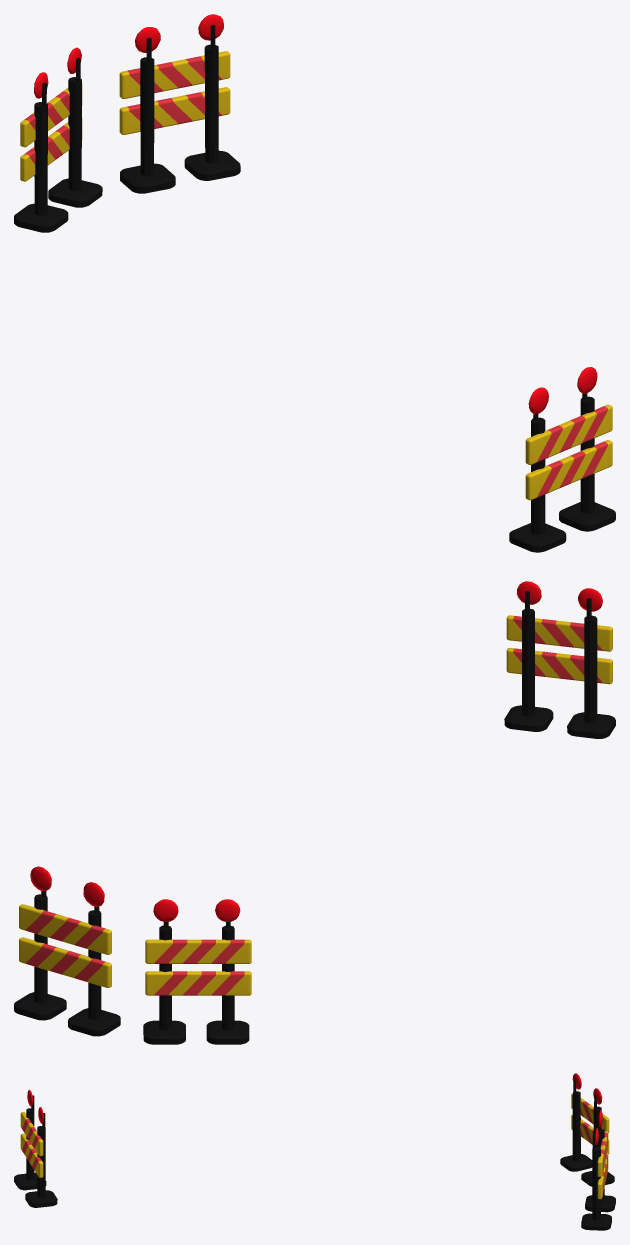
The model's file is StreetBarrier.fbx.
3 renders of one model, top to bottom at view 1: azimuth 30°, elevation 25°; view 2: azimuth 150°, elevation 25°; view 3: azimuth 270°, elevation 25°, orthographic. The views are drawn at different scales.
Visible parts, largest first — view 1: Cube.040, Cube.008, Cube.005; view 2: Cube.008, Cube.040, Cube.005; view 3: Cube.040, Cube.008, Cube.005.
Boxes of the visible parts, x1,y1,x2,y2 form: Cube.040: (14,25,615,552); Cube.008: (20,51,612,500); Cube.005: (34,14,597,413); Cube.008: (19,615,612,995); Cube.040: (14,591,615,1044); Cube.005: (30,581,602,921); Cube.040: (14,1079,615,1230); Cube.008: (20,1093,609,1199); Cube.005: (27,1073,602,1145).
Size of the model in its own units: 0.1943 by 0.1252 by 0.7084.
